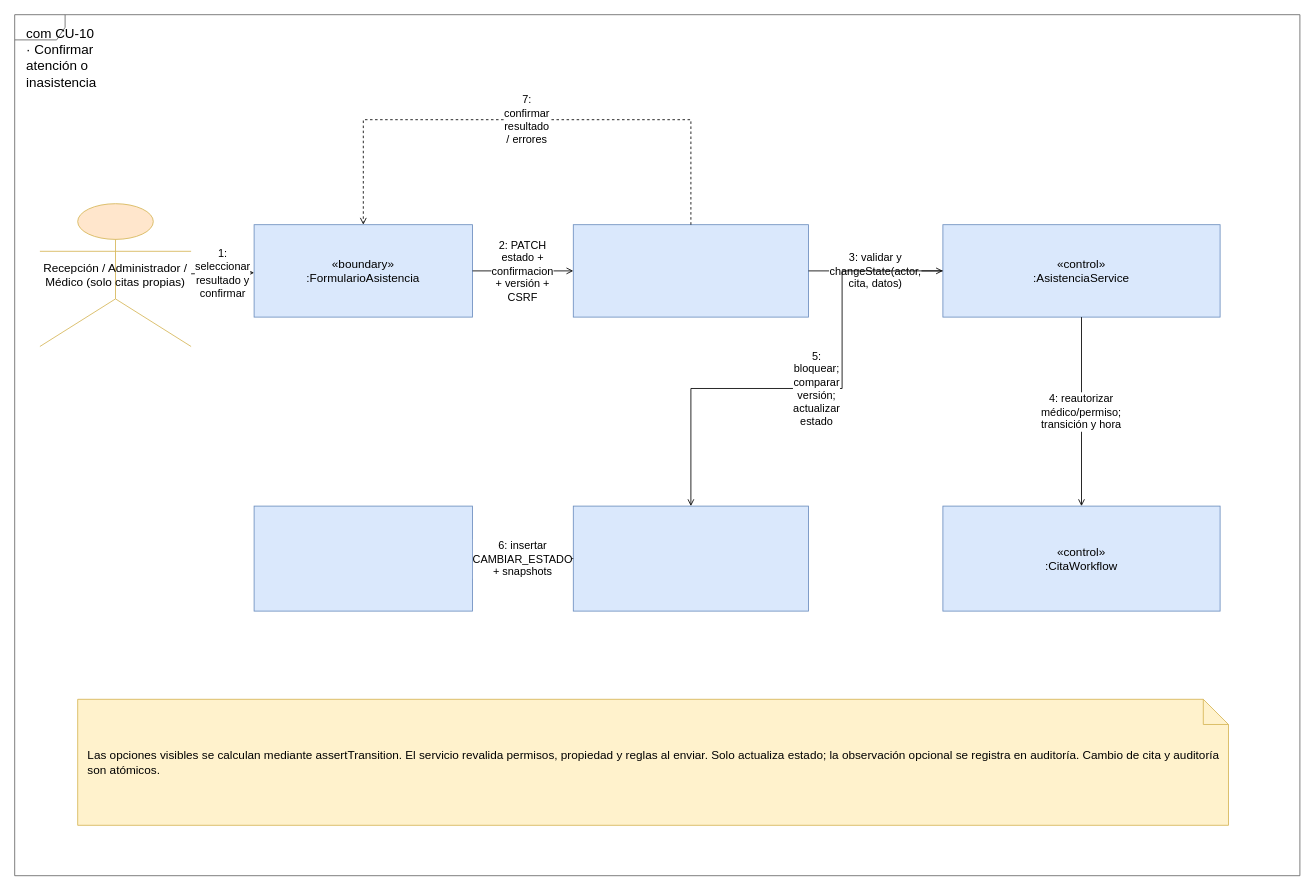
Some shapes in this 1315 by 890 pixel diagram are drawn without their labels. The shapes that lost their labels are listed below. From the top down, each one's centre as x and y in pixels, then its label:
At (x=690, y=270): "«control» :AsistenciaController".
At (x=362, y=558): "«entity» :CambioCita".
At (x=690, y=558): "«entity» :CitaMedica".
